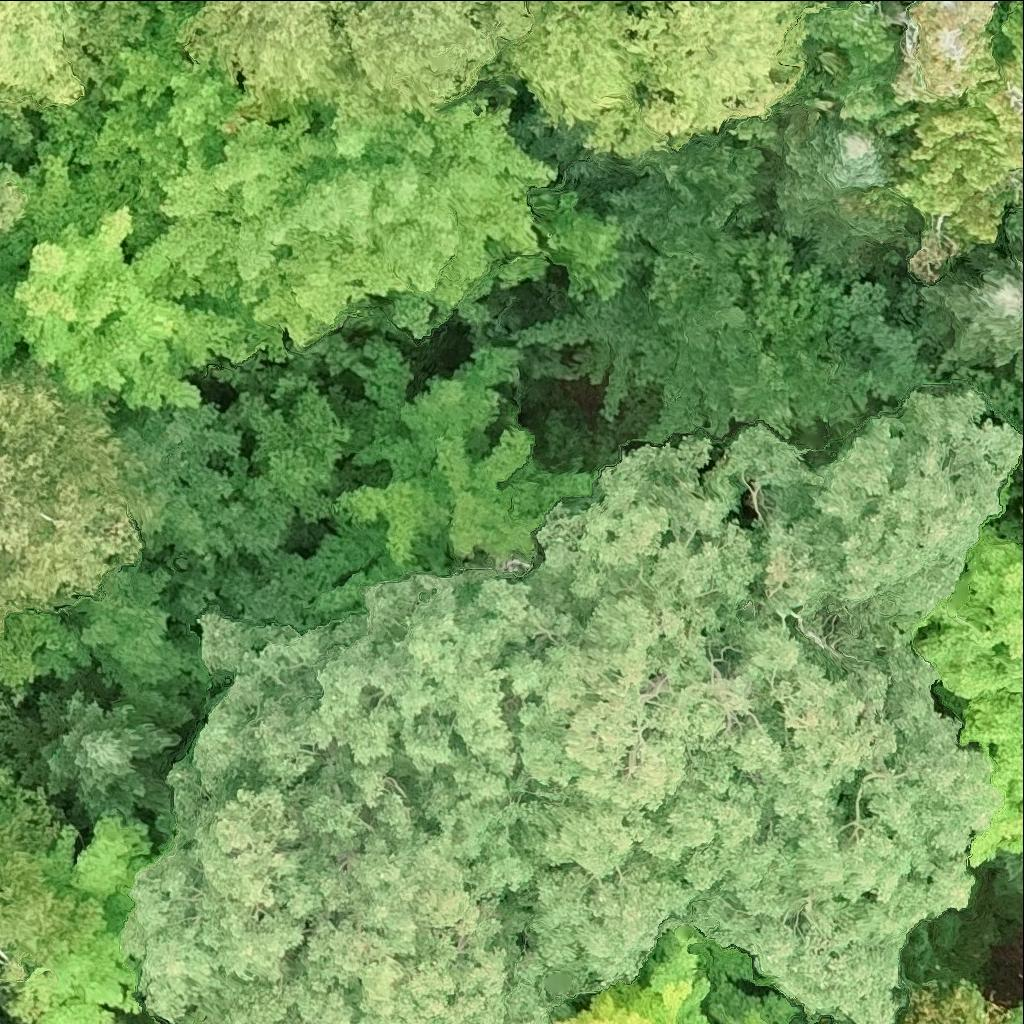crown: (500, 386, 1016, 1023), (506, 433, 892, 925), (161, 504, 578, 850), (133, 792, 549, 1023), (509, 138, 798, 447), (290, 89, 622, 340), (0, 140, 292, 408), (134, 119, 408, 344), (338, 350, 602, 580), (490, 0, 819, 158), (915, 522, 1023, 877), (42, 0, 257, 176), (0, 379, 143, 637), (8, 799, 156, 1023), (309, 0, 534, 128), (176, 0, 355, 135), (0, 767, 109, 985), (13, 693, 193, 825), (894, 63, 1023, 240), (773, 114, 907, 280), (736, 232, 845, 427), (818, 281, 938, 425), (539, 925, 709, 1023), (0, 0, 151, 107), (923, 260, 1023, 375), (892, 0, 998, 104), (949, 368, 1023, 434), (876, 985, 986, 1023), (999, 0, 1023, 93), (0, 168, 28, 233), (1006, 210, 1023, 262), (1011, 88, 1023, 122), (1012, 352, 1023, 379), (1021, 449, 1023, 465)
